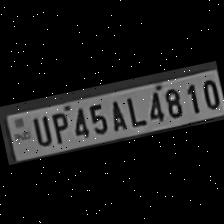0: (196, 74, 222, 110)
1: (179, 78, 202, 114)
4: (138, 86, 166, 124), (65, 102, 91, 140)
5: (83, 99, 109, 136)
8: (158, 82, 183, 119)
A: (104, 93, 128, 131)
L: (120, 90, 144, 128)
P: (46, 107, 71, 144)
U: (28, 110, 52, 146)
